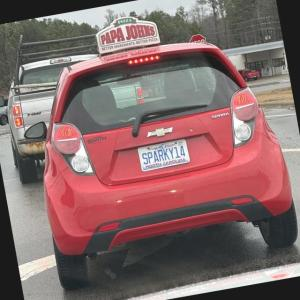Plate: (137, 138, 191, 171)
